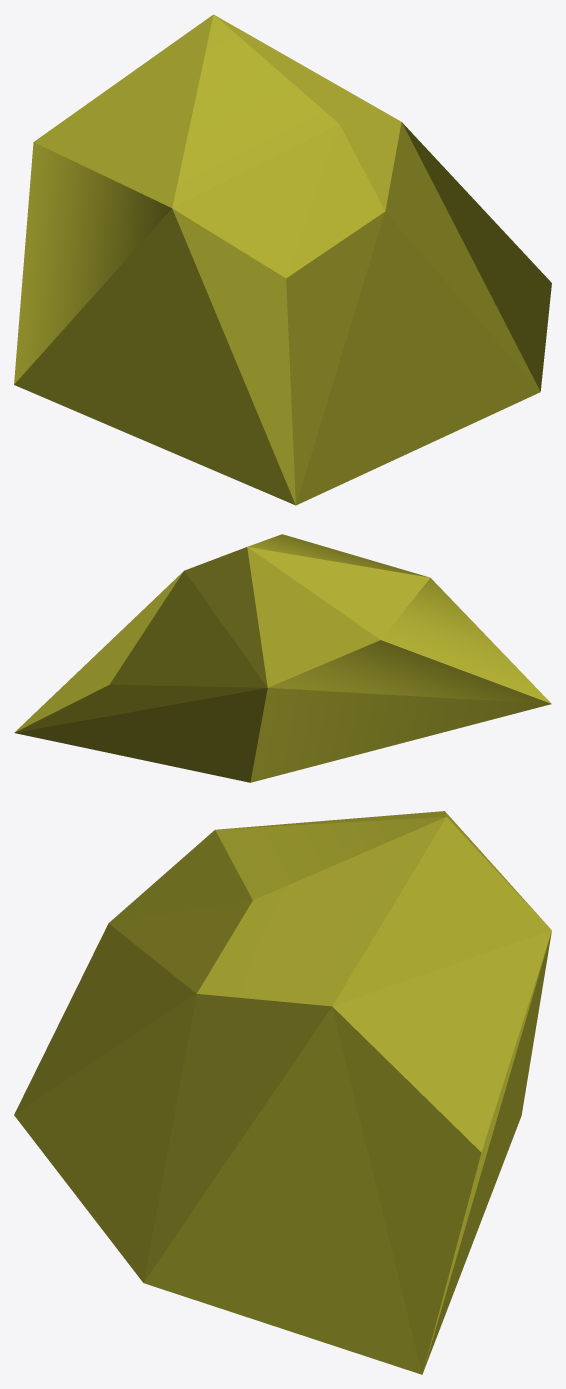
Rendered from character02.fbx.
3 renders of one model, top to bottom at view 1: azimuth 30°, elevation 25°; view 2: azimuth 150°, elevation 25°; view 3: azimuth 270°, elevation 25°, orthographic. The views are drawn at different scales.
Parts seen in each view (by area): view 1: character02; view 2: character02; view 3: character02.
Boxes of the visible parts, x1,y1,x2,y2 form: character02: [14, 14, 551, 505]; character02: [14, 534, 551, 782]; character02: [14, 811, 551, 1374].
Bounding box in the file's own units: 1.6 × 0.8191 × 1.05.
